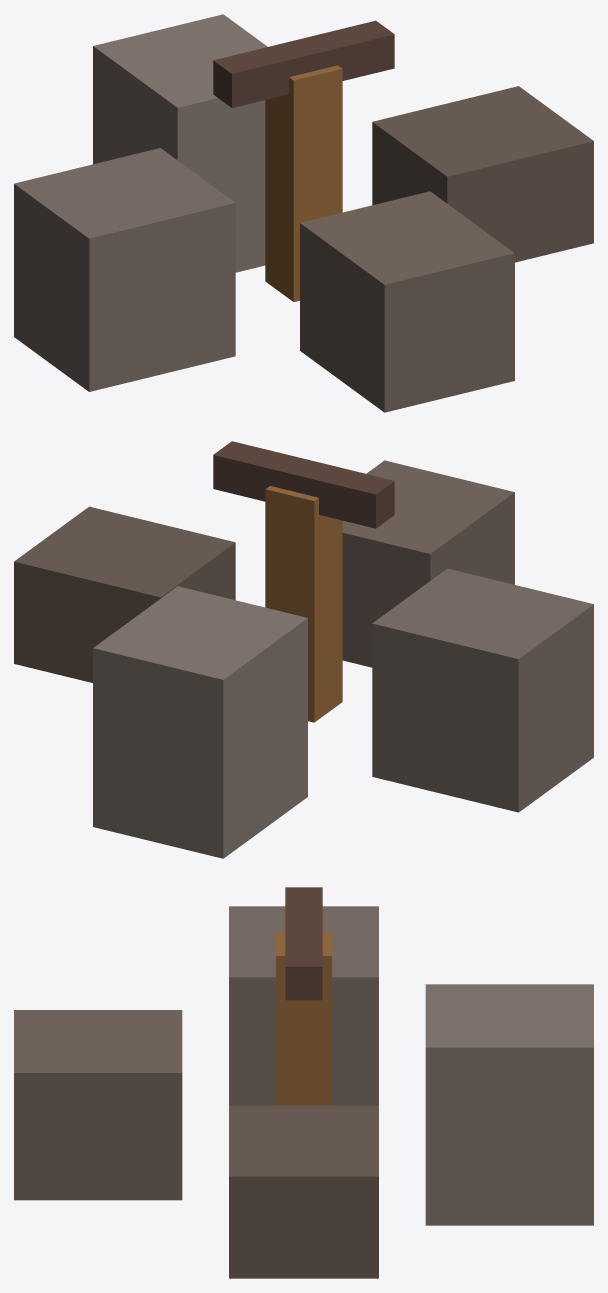
File: imp_cai_shi_chang.glb
3 views of the same model, one above another, from view 1: azimuth 30°, elevation 25°; view 2: azimuth 150°, elevation 25°; view 3: azimuth 270°, elevation 25° (orthographic).
Parts seen in each view (by area): view 1: _MeshInstance3D_191, _MeshInstance3D_190, _MeshInstance3D_189, _MeshInstance3D_192, _MeshInstance3D_193, _MeshInstance3D_194; view 2: _MeshInstance3D_192, _MeshInstance3D_191, _MeshInstance3D_189, _MeshInstance3D_190, _MeshInstance3D_193, _MeshInstance3D_194; view 3: _MeshInstance3D_192, _MeshInstance3D_190, _MeshInstance3D_189, _MeshInstance3D_191, _MeshInstance3D_193, _MeshInstance3D_194.
Part boxes in pixels (x1=…): _MeshInstance3D_191: x1=14, y1=148, x2=235, y2=391; _MeshInstance3D_190: x1=300, y1=191, x2=514, y2=412; _MeshInstance3D_189: x1=372, y1=86, x2=593, y2=262; _MeshInstance3D_192: x1=93, y1=14, x2=267, y2=272; _MeshInstance3D_193: x1=265, y1=65, x2=342, y2=301; _MeshInstance3D_194: x1=213, y1=20, x2=394, y2=107; _MeshInstance3D_192: x1=93, y1=586, x2=307, y2=858; _MeshInstance3D_191: x1=372, y1=568, x2=593, y2=812; _MeshInstance3D_189: x1=14, y1=506, x2=235, y2=682; _MeshInstance3D_190: x1=342, y1=460, x2=514, y2=667; _MeshInstance3D_193: x1=265, y1=486, x2=342, y2=722; _MeshInstance3D_194: x1=213, y1=441, x2=394, y2=528; _MeshInstance3D_192: x1=425, y1=984, x2=593, y2=1225; _MeshInstance3D_190: x1=14, y1=1010, x2=182, y2=1200; _MeshInstance3D_189: x1=229, y1=1105, x2=378, y2=1278; _MeshInstance3D_191: x1=229, y1=906, x2=378, y2=1105; _MeshInstance3D_193: x1=276, y1=932, x2=331, y2=1105; _MeshInstance3D_194: x1=285, y1=887, x2=322, y2=1000.
Bounding box in the file's own units: 0.62 × 0.315 × 0.62.
